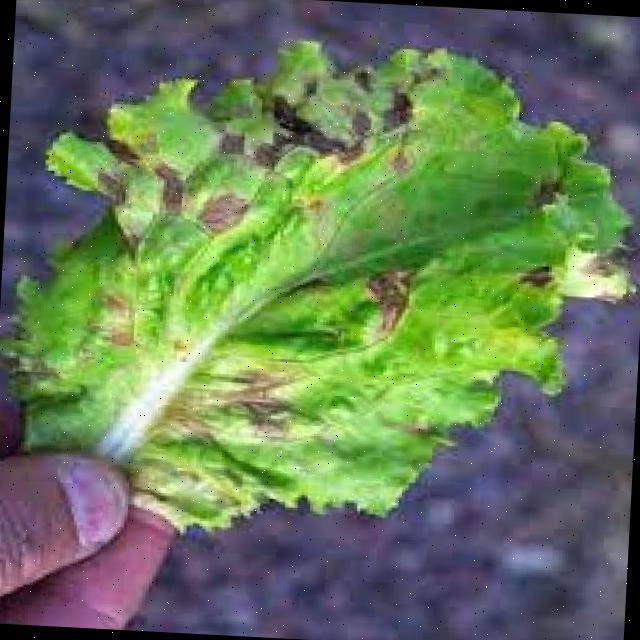Septoria_Blight: (123, 104, 427, 479)
